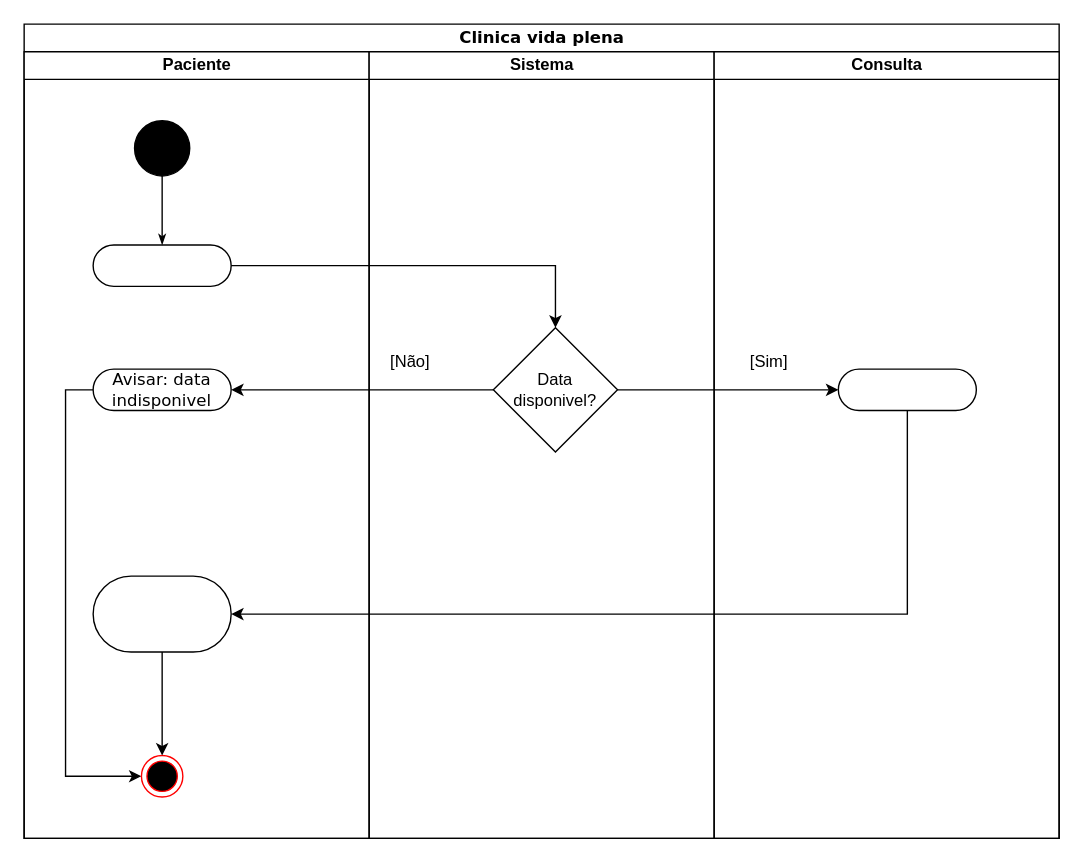
Image size: 1083x863. Some labels were removed from this diagram. Here are the shapes that lost their labels. From the top down, the centre of each, then its label:
(161,265): Solicitar consulta
(906,389): Agendamento realizado
(161,613): Avisar: Agendamento confirmado
